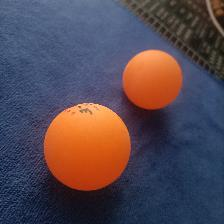YellowBall: (44, 105, 129, 188), (124, 51, 182, 105)
